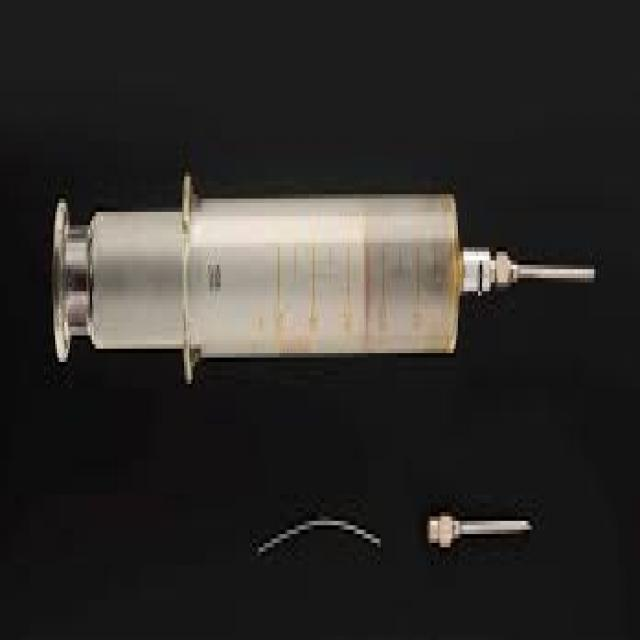syringe: (73, 146, 626, 438)
